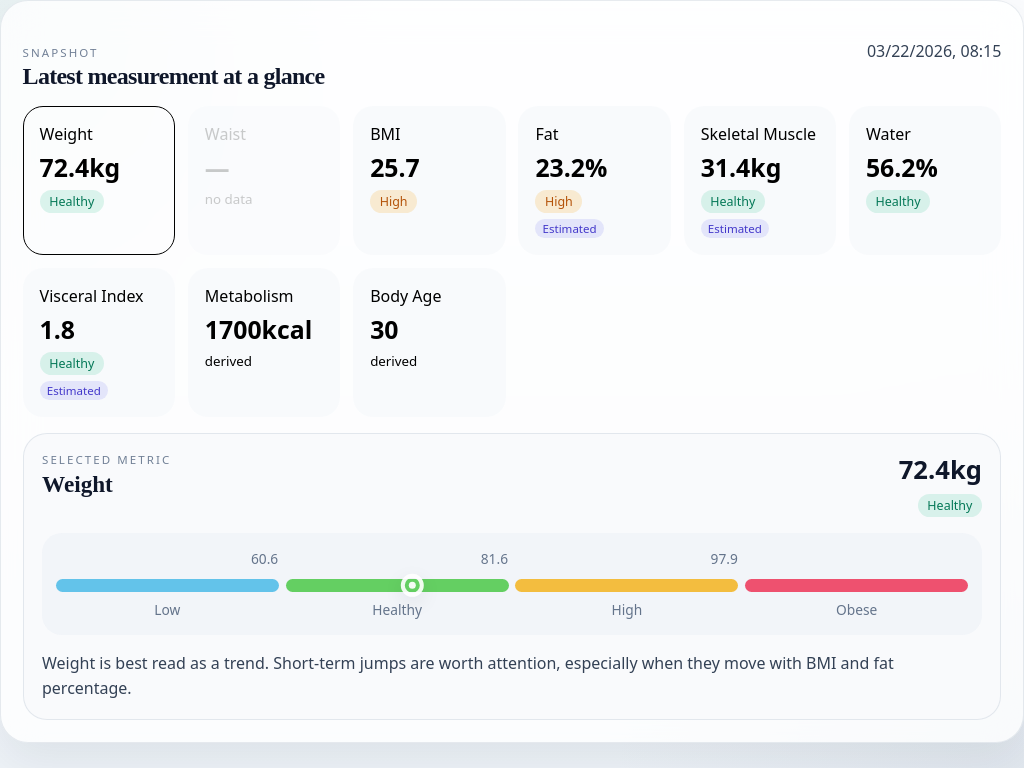
Test case: MetricPanel › shows a selectable metric detail view
This screenshot has width=1024, height=768.
expect the heading "Weight" is shown: met, box [42,471,113,497]
expect the text "Low" is shown: met, box [154,600,180,619]
Click the button "BMI 25.7 high": point(429, 180) [353,106,506,255]
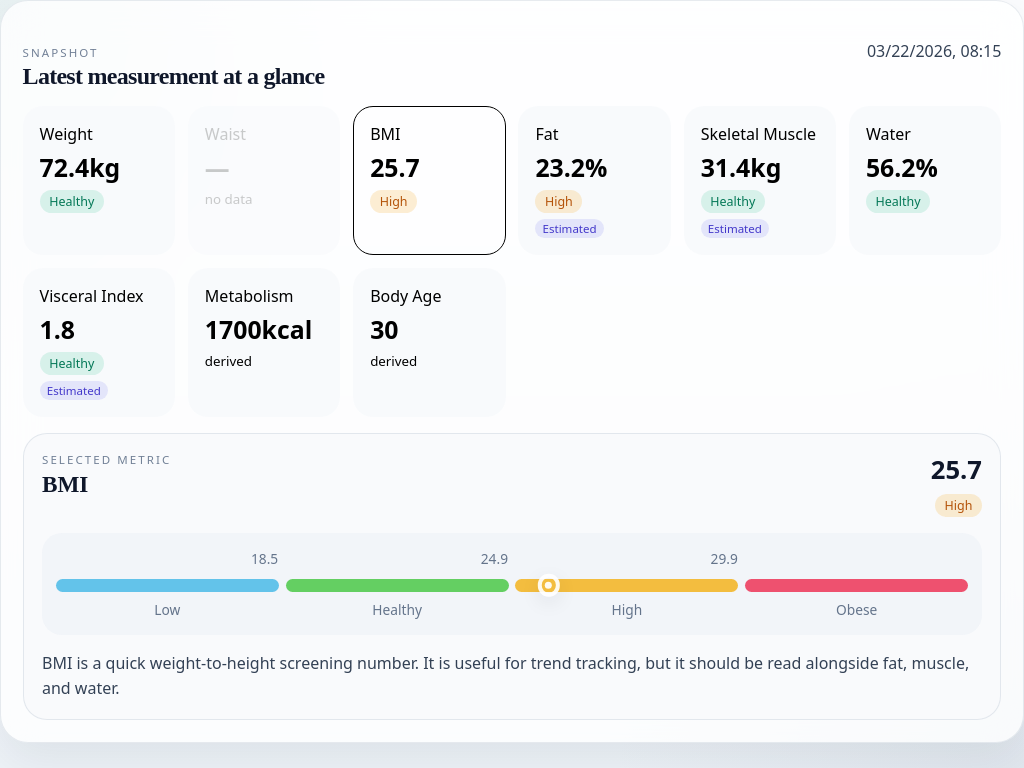
expect the heading "BMI" is shown: met, box [42,471,88,497]
expect the text "BMI is a quick weight-to-height screening number. It is useful for trend tracking, but it should be read alongside fat, " is shown: met, box [42,652,969,699]
